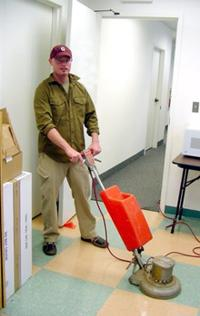person: (34, 45, 110, 258)
